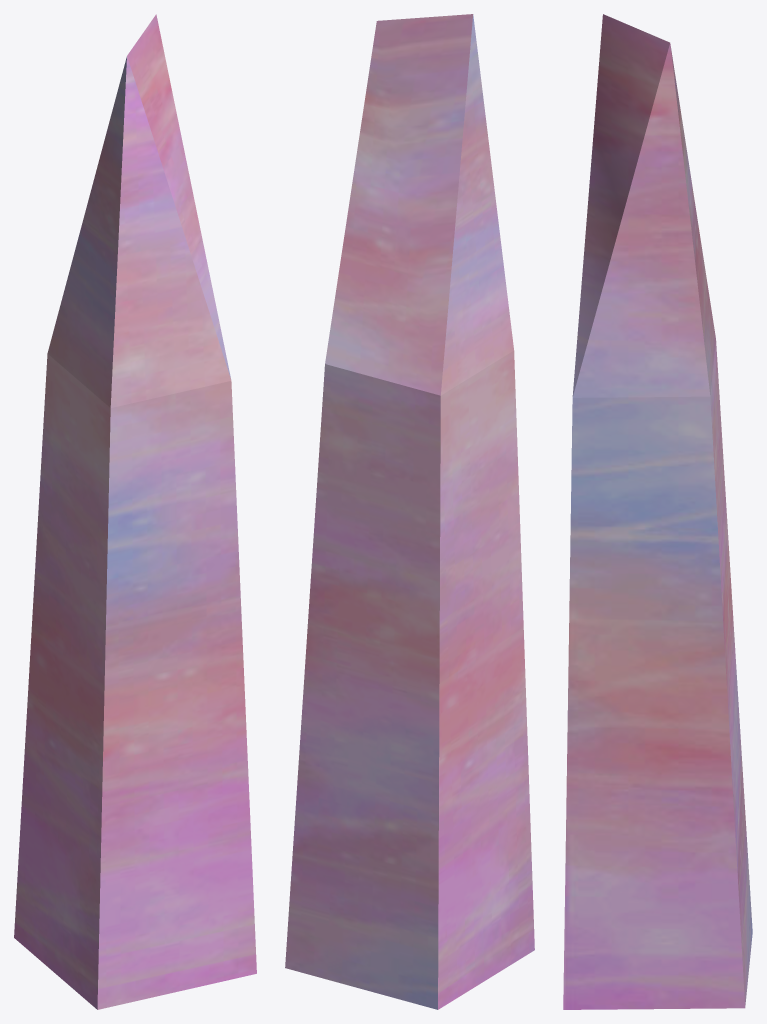
Rendered from Crystal.fbx.
3 views of the same model, side by side, from view 1: azimuth 30°, elevation 25°; view 2: azimuth 150°, elevation 25°; view 3: azimuth 270°, elevation 25° (orthographic).
Parts seen in each view (by area): view 1: Crystal; view 2: Crystal; view 3: Crystal.
Part boxes in pixels (x1,y1,x2,y2): Crystal: (14,14,256,1009); Crystal: (285,14,534,1009); Crystal: (563,14,752,1009).
Size of the model in its own units: 0.5176 by 2.85 by 0.5175.
